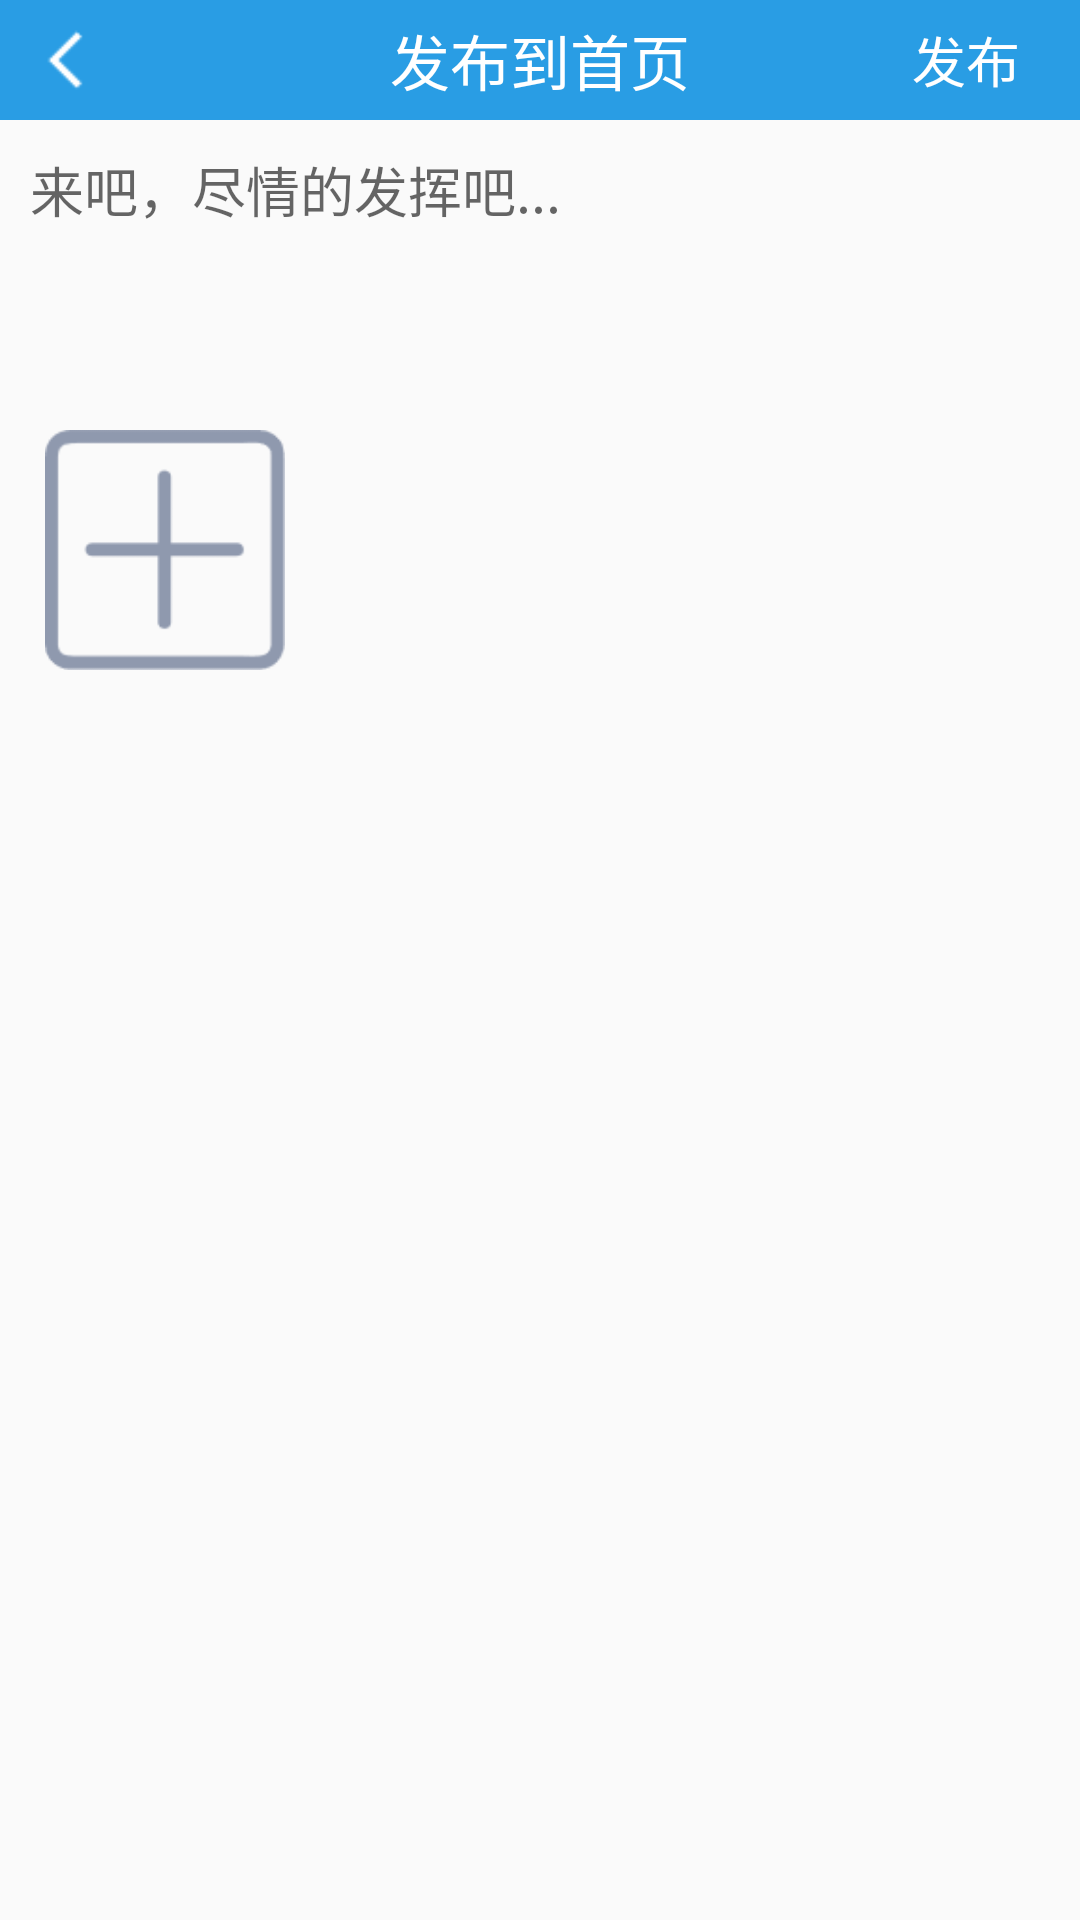

Screen size 1080px×1920px. Icon name, then its center in pixels as [x,y]:
exit: [65,59]
